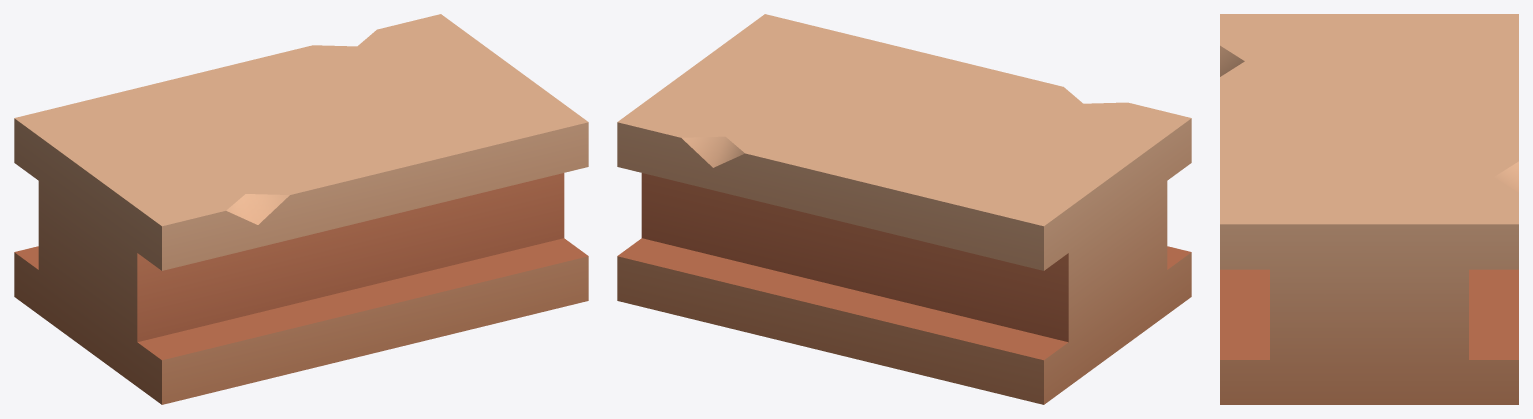
The model's file is border-straight.glb.
The picture shows the model from 3 angles, left to right: view 1: azimuth 30°, elevation 25°; view 2: azimuth 150°, elevation 25°; view 3: azimuth 270°, elevation 25°; orthographic projection.
Visible parts, largest first — view 1: border-straight; view 2: border-straight; view 3: border-straight.
Boxes of the visible parts, x1=… form: border-straight: x1=14, y1=14, x2=588, y2=404; border-straight: x1=617, y1=14, x2=1191, y2=404; border-straight: x1=1220, y1=14, x2=1518, y2=404.
Size of the model in its own units: 1 by 0.4 by 0.6.
1 material, 1 textured.
